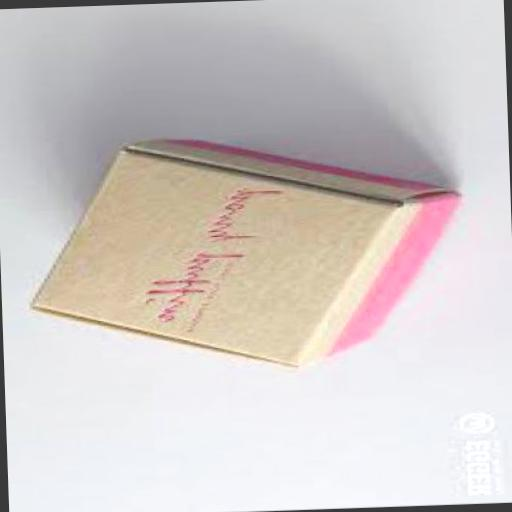cardboard: (21, 127, 464, 376)
